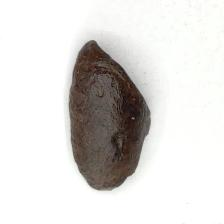NG: (90, 38, 151, 116)
